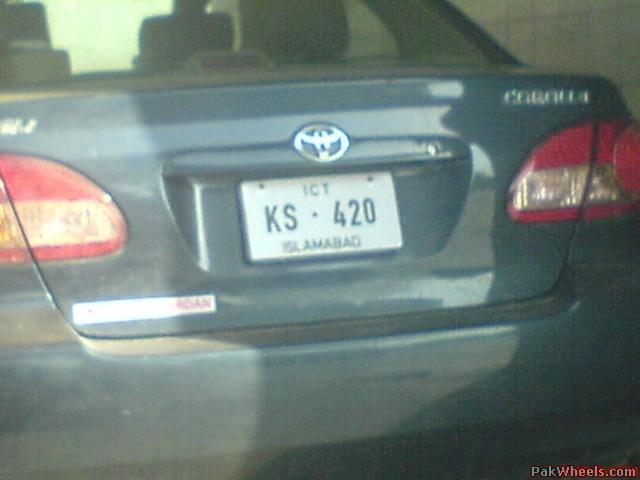Number Plate (Car): (235, 173, 408, 262)
